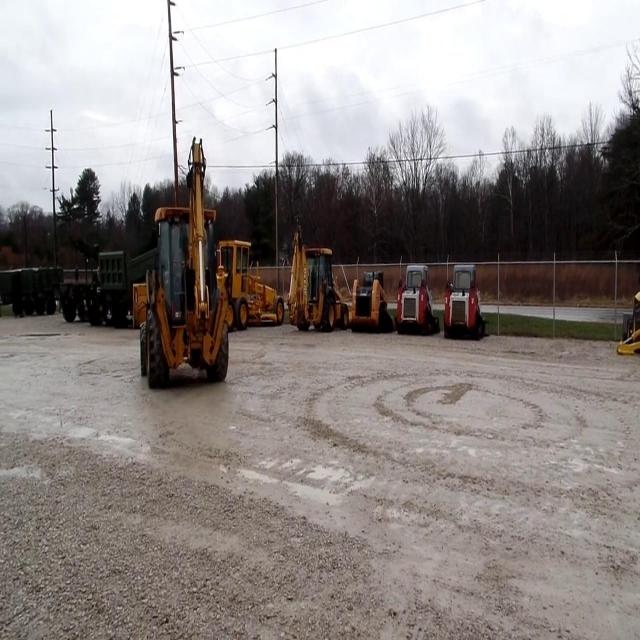Dump Truck: (2, 264, 92, 320), (96, 246, 154, 324)
Excavator: (140, 137, 229, 389), (286, 222, 349, 336)
Grader: (218, 232, 286, 333)
Loader: (441, 258, 486, 339), (346, 266, 392, 336), (394, 263, 436, 334)
